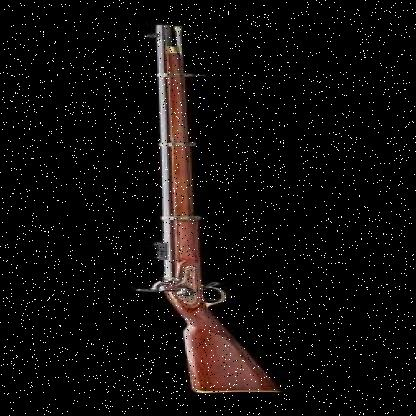rifle: (95, 9, 328, 394)
